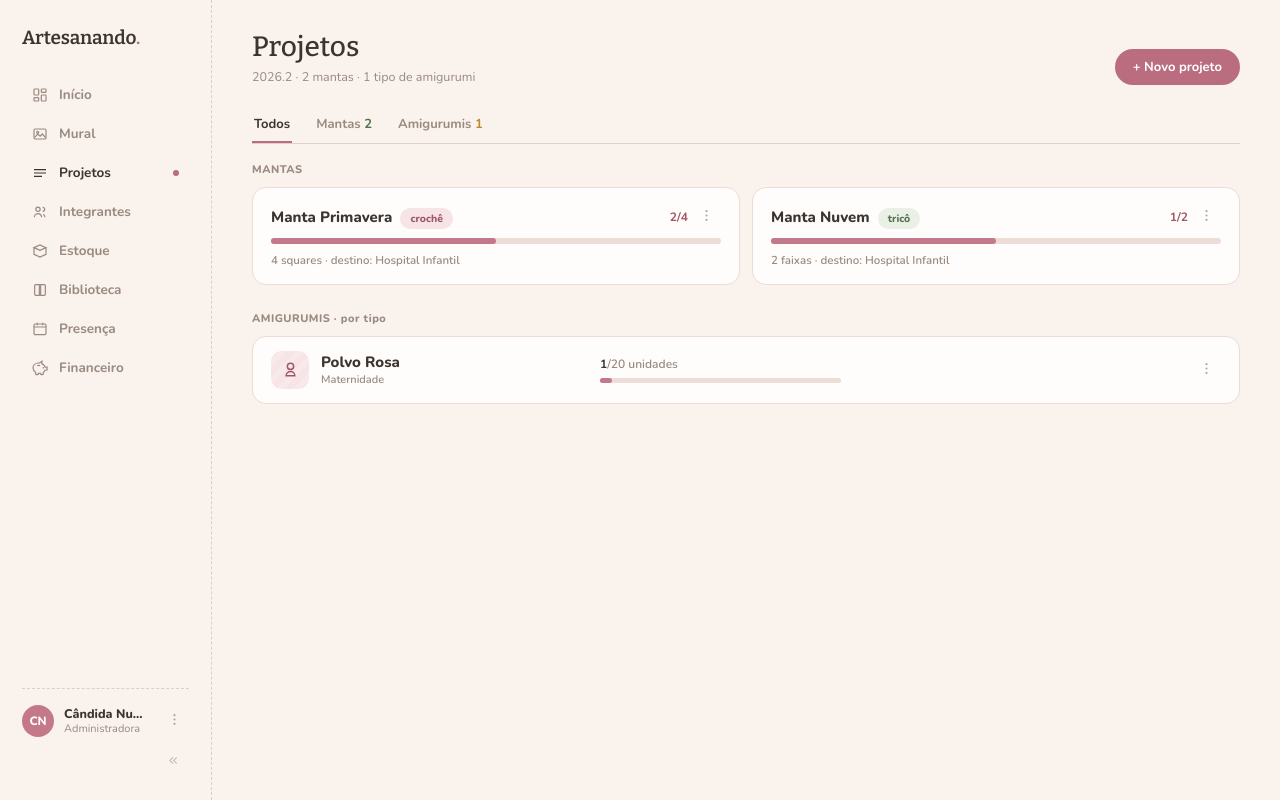
Scenario: projetos (M3) › cada projeto tem menu com editar, marcar entregue e arquivar
Click the button named "Ações de Manta Primavera". click: (706, 217)
box: [692,204,721,230]
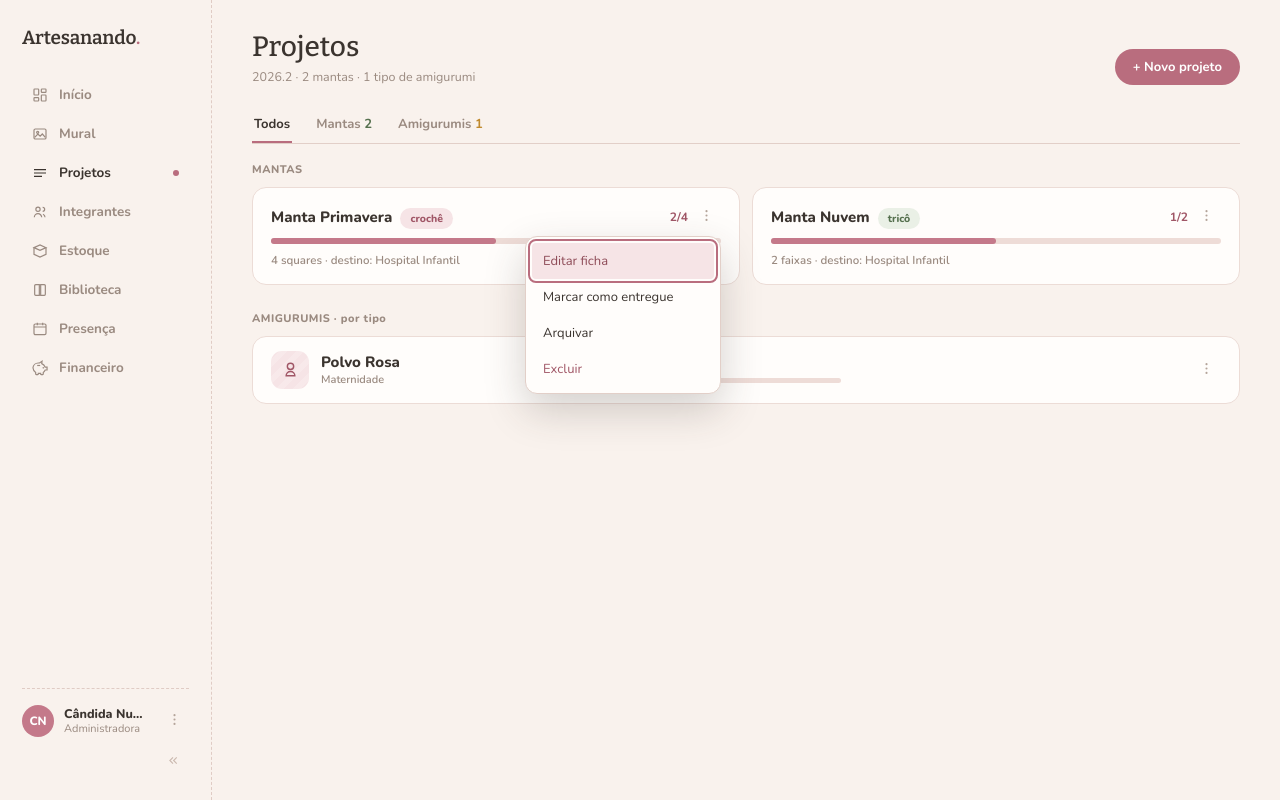
Check: the menu item "Editar ficha" is shown, box [532,243,714,279]
Check: the menu item "Marcar como entregue" is shown, box [532,279,714,315]
Check: the menu item "Arquivar" is shown, box [532,315,714,351]
